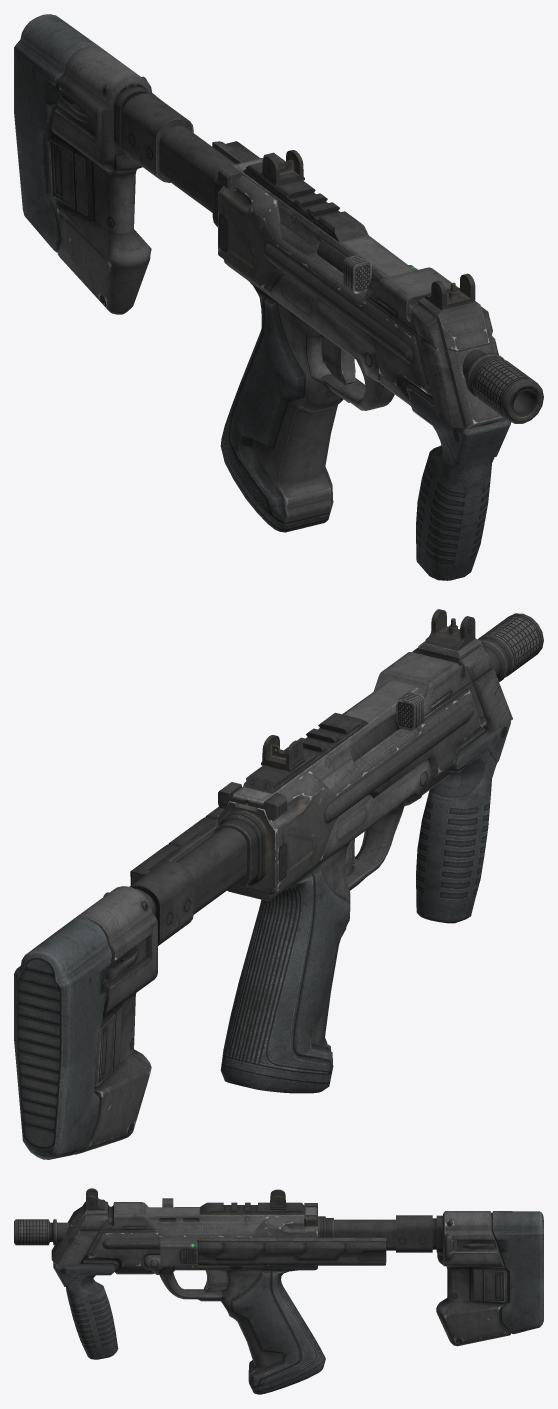
File: SMG.glb
3 views of the same model, one above another, from view 1: azimuth 30°, elevation 25°; view 2: azimuth 150°, elevation 25°; view 3: azimuth 270°, elevation 25° (orthographic). The views are drawn at different scales.
Parts seen in each view (by area): view 1: SMG, _standard_standard.003, _standard_standard.002; view 2: SMG, _standard_standard.003, _standard_standard.001, _standard_standard.002; view 3: SMG, _standard_standard.003, _standard_standard.001.
Part boxes in pixels (<box>): SMG: <box>212,141,543,580</box>; _standard_standard.003: <box>14,14,235,314</box>; _standard_standard.002: <box>343,255,371,293</box>; SMG: <box>147,609,543,1093</box>; _standard_standard.003: <box>14,827,246,1159</box>; _standard_standard.001: <box>130,807,224,885</box>; _standard_standard.002: <box>395,692,424,730</box>; SMG: <box>14,1188,386,1394</box>; _standard_standard.003: <box>334,1211,543,1346</box>; _standard_standard.001: <box>198,1241,385,1265</box>.
Size of the model in its own units: 0.07 by 0.2623 by 0.6392.
Materials: 1 (1 with a texture image).
